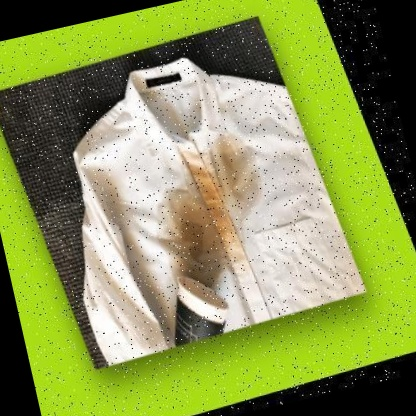coffee: (170, 203, 223, 279), (203, 157, 257, 209)
